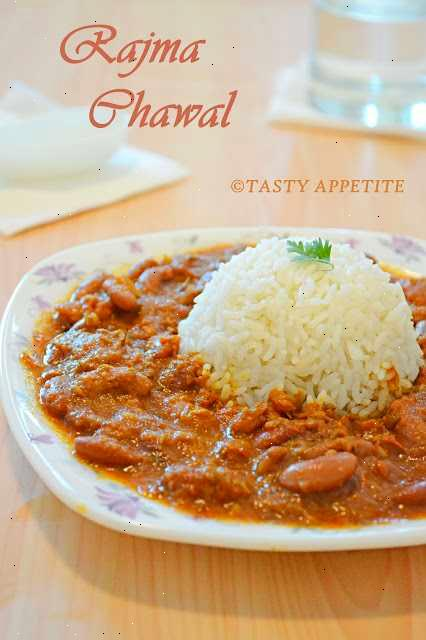rajma: (72, 393, 426, 533)
rice: (210, 228, 423, 387)
